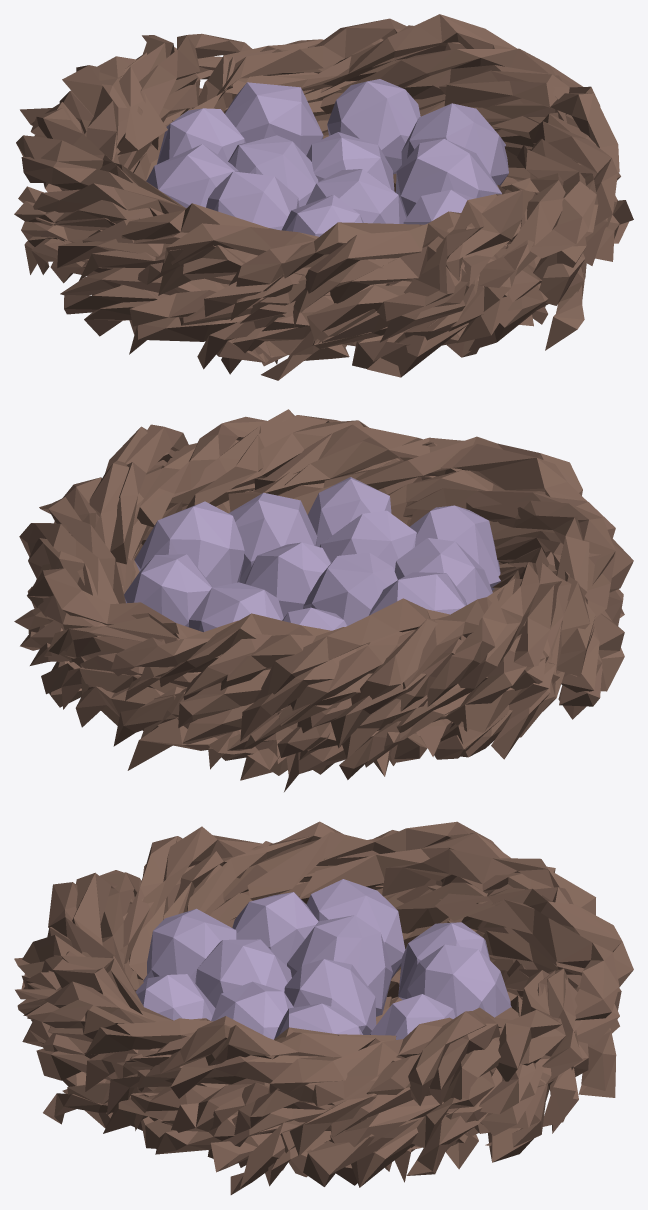
Rendered from Nest_09.fbx.
The picture shows the model from 3 angles, top to bottom: view 1: azimuth 30°, elevation 25°; view 2: azimuth 150°, elevation 25°; view 3: azimuth 270°, elevation 25°; orthographic projection.
Parts seen in each view (by area): view 1: Nest_09_LOD0; view 2: Nest_09_LOD0; view 3: Nest_09_LOD0.
Part boxes in pixels (bbox=[...]): Nest_09_LOD0: bbox=[14, 14, 633, 380]; Nest_09_LOD0: bbox=[14, 409, 633, 791]; Nest_09_LOD0: bbox=[14, 821, 633, 1194].
Size of what is drawn, in the model's own units: 60.77 by 21.04 by 60.78.
